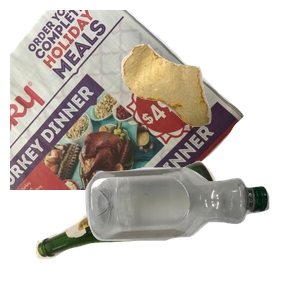glass: (33, 158, 246, 300)
paper: (10, 10, 247, 190)
plastic: (83, 165, 300, 300)
trash: (119, 42, 300, 161)
